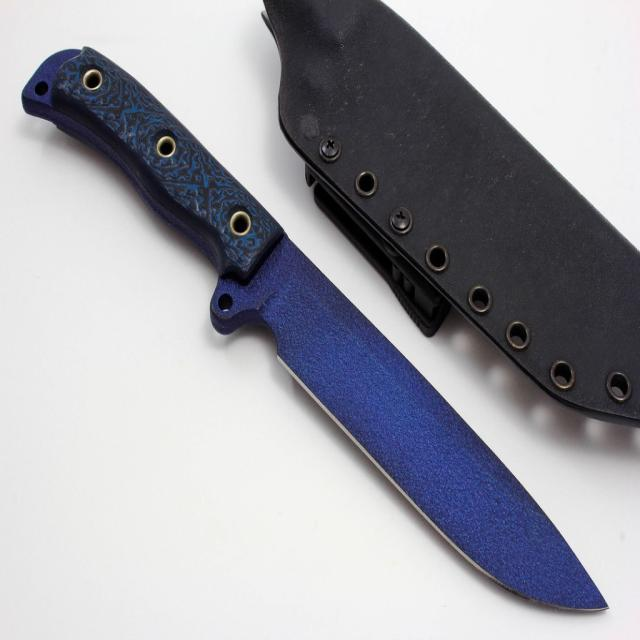Knife: (22, 48, 605, 609)
